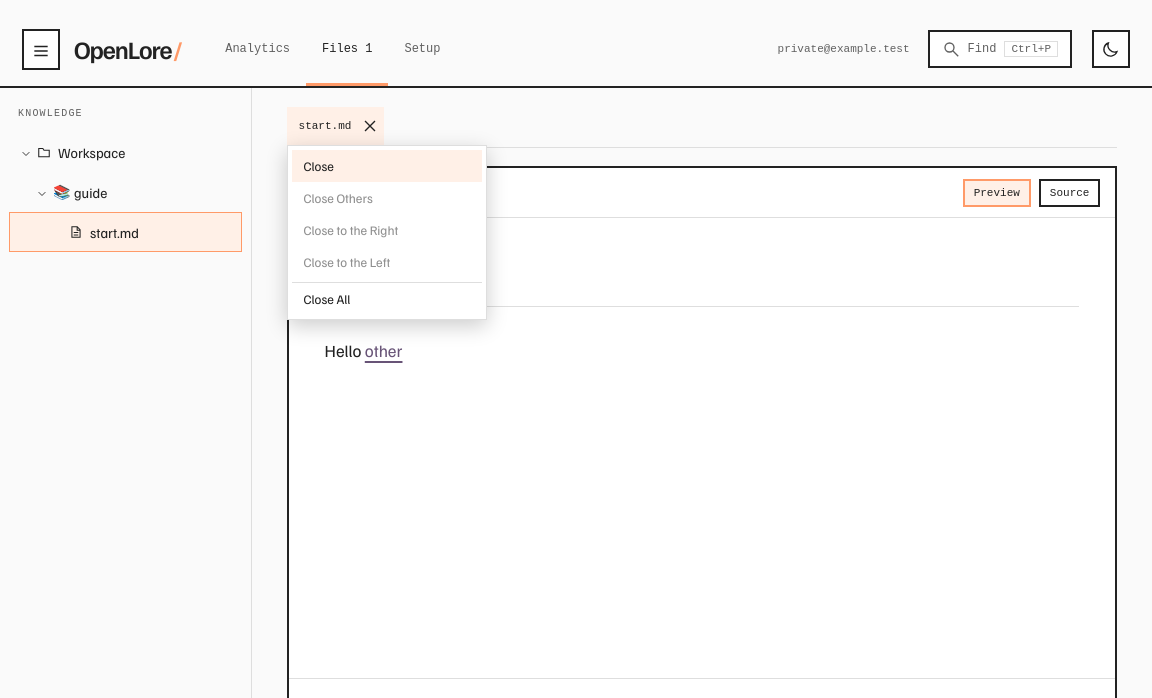
Test: clicking another control dismisses the tab menu without stealing focus back
Expected: the heading "Start" is shown, [324,254,1079,307]
Click the button "Source".
click(1070, 192)  # box [1039,178,1100,206]
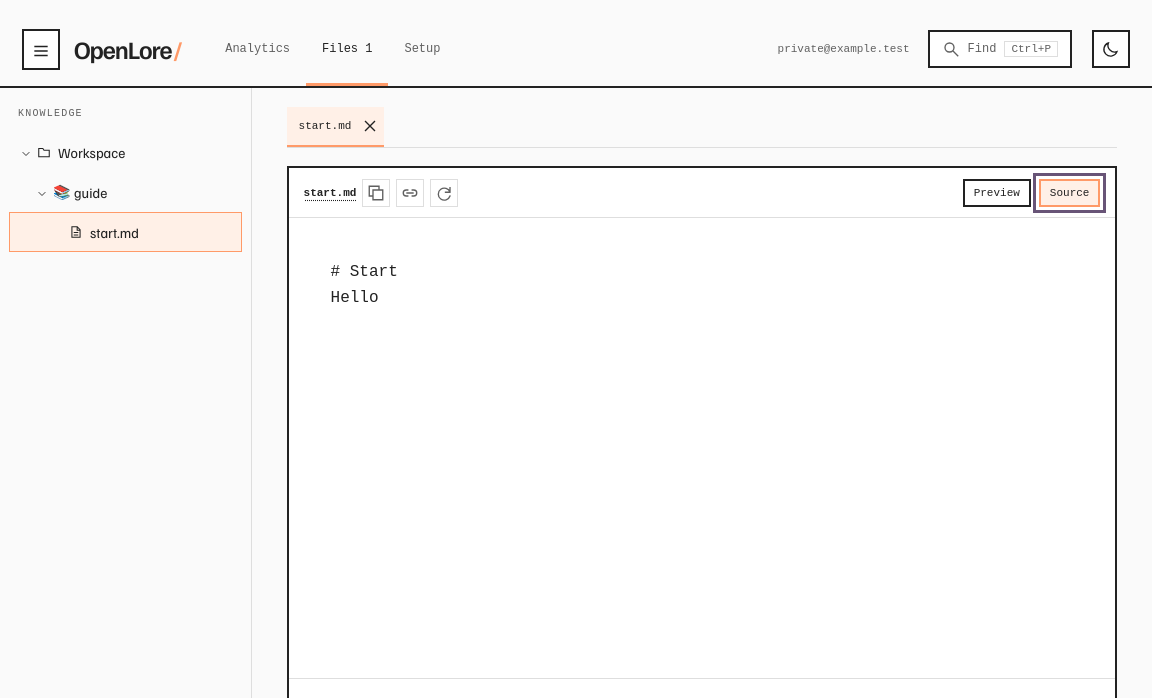
Result: the menu is gone
